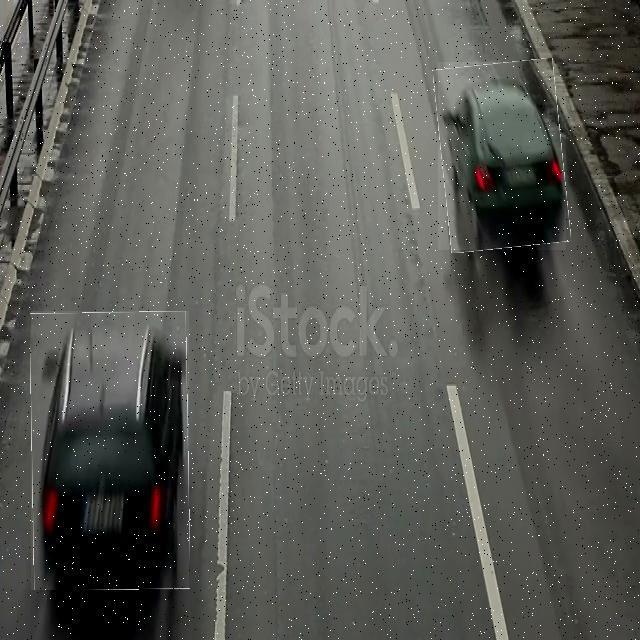Car: (31, 311, 189, 590), (438, 62, 566, 250)
